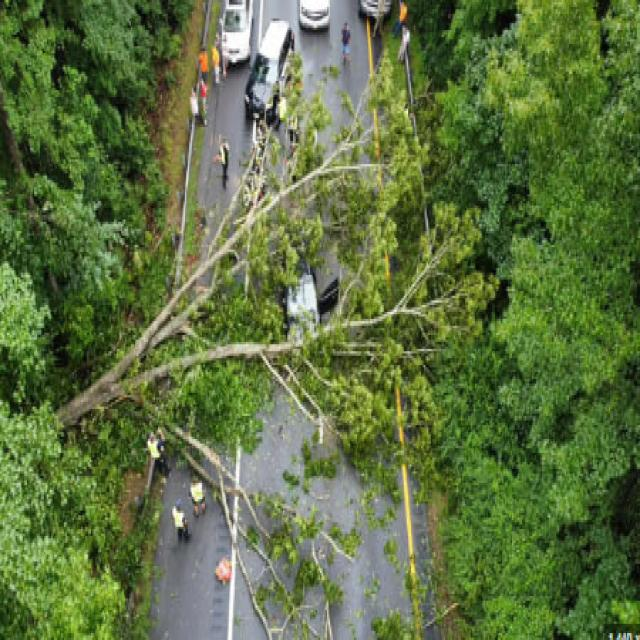fallen_tree: (59, 73, 486, 583)
